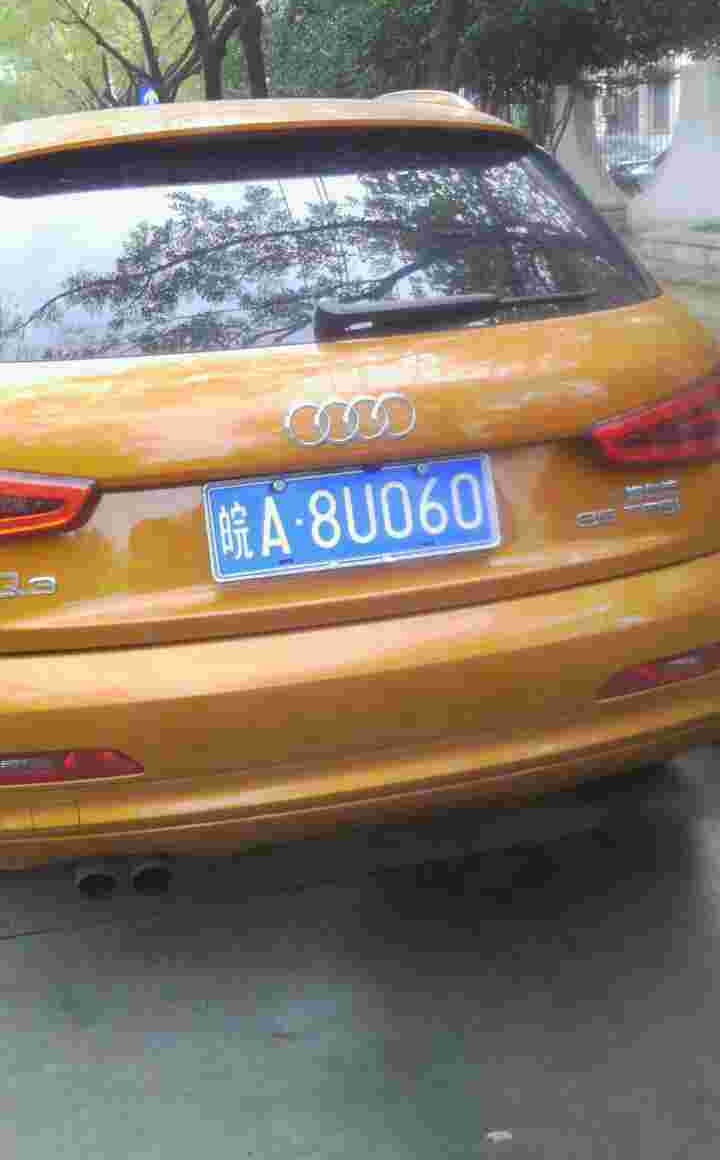car: (206, 468, 510, 548)
